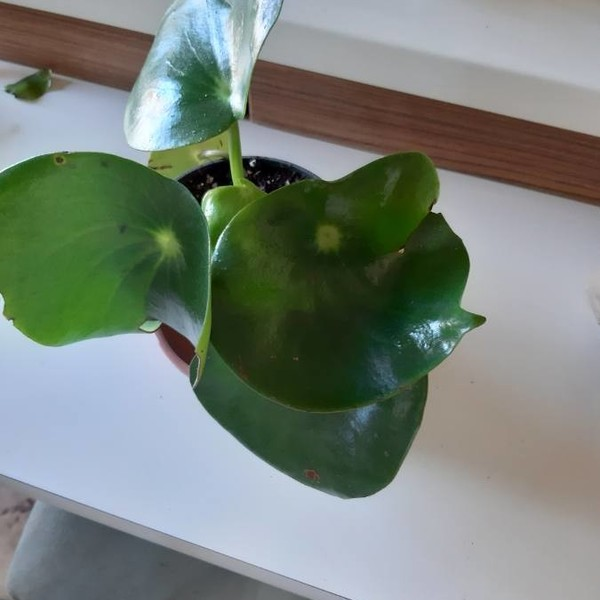obstacle: (24, 13, 467, 499)
